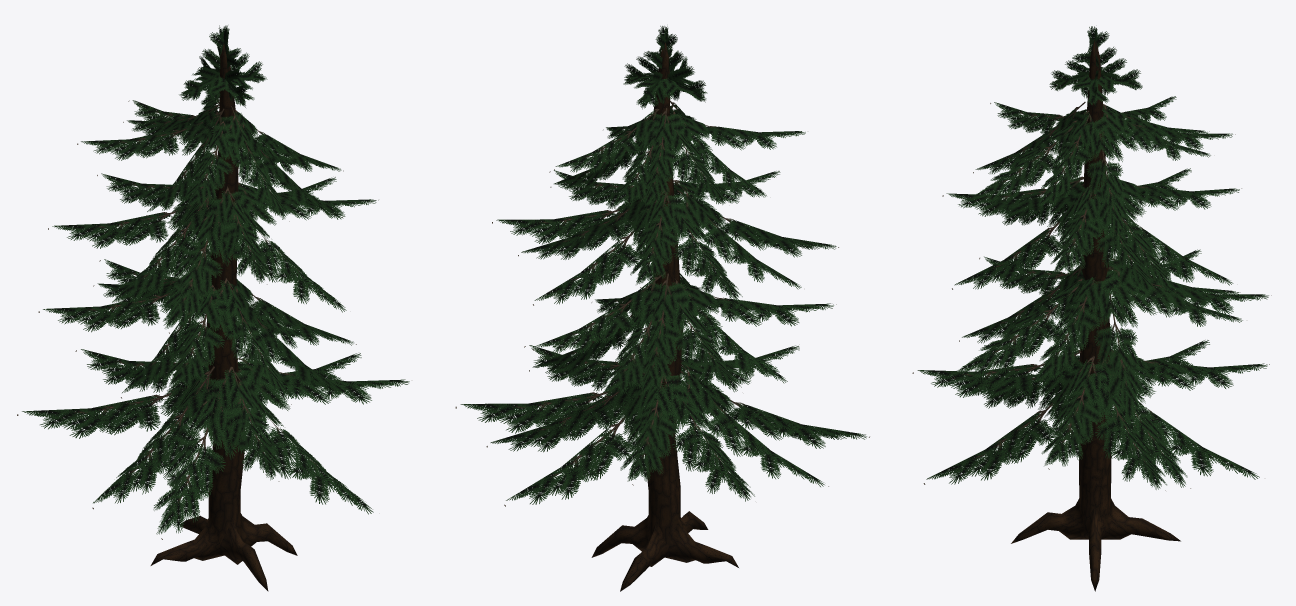
Rendered from Mesh_Environment_Tree_Pine_01.fbx.
The picture shows the model from 3 angles, left to right: view 1: azimuth 30°, elevation 25°; view 2: azimuth 150°, elevation 25°; view 3: azimuth 270°, elevation 25°; orthographic projection. The views are drawn at different scales.
Visible parts, largest first — view 1: Mesh_Environment_Tree_Pine_01; view 2: Mesh_Environment_Tree_Pine_01; view 3: Mesh_Environment_Tree_Pine_01.
Part boxes in pixels (box(x1,y1,x2,y2)): Mesh_Environment_Tree_Pine_01: box(17, 25, 409, 591); Mesh_Environment_Tree_Pine_01: box(455, 26, 869, 591); Mesh_Environment_Tree_Pine_01: box(912, 26, 1271, 591).
Size of the model in its own units: 4.32 by 6.51 by 4.17.
